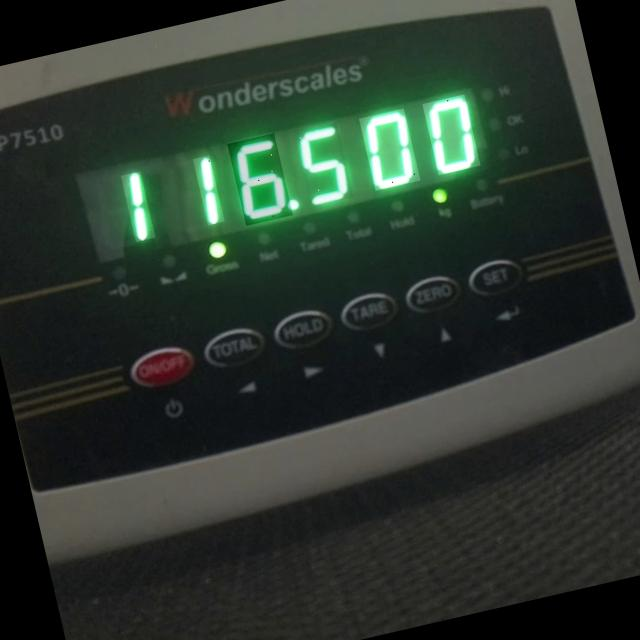.: (286, 198, 299, 210)
0: (359, 108, 420, 190), (422, 94, 480, 175)
1: (120, 170, 155, 242), (192, 156, 225, 226)
5: (294, 122, 354, 206)
6: (226, 132, 292, 225)
